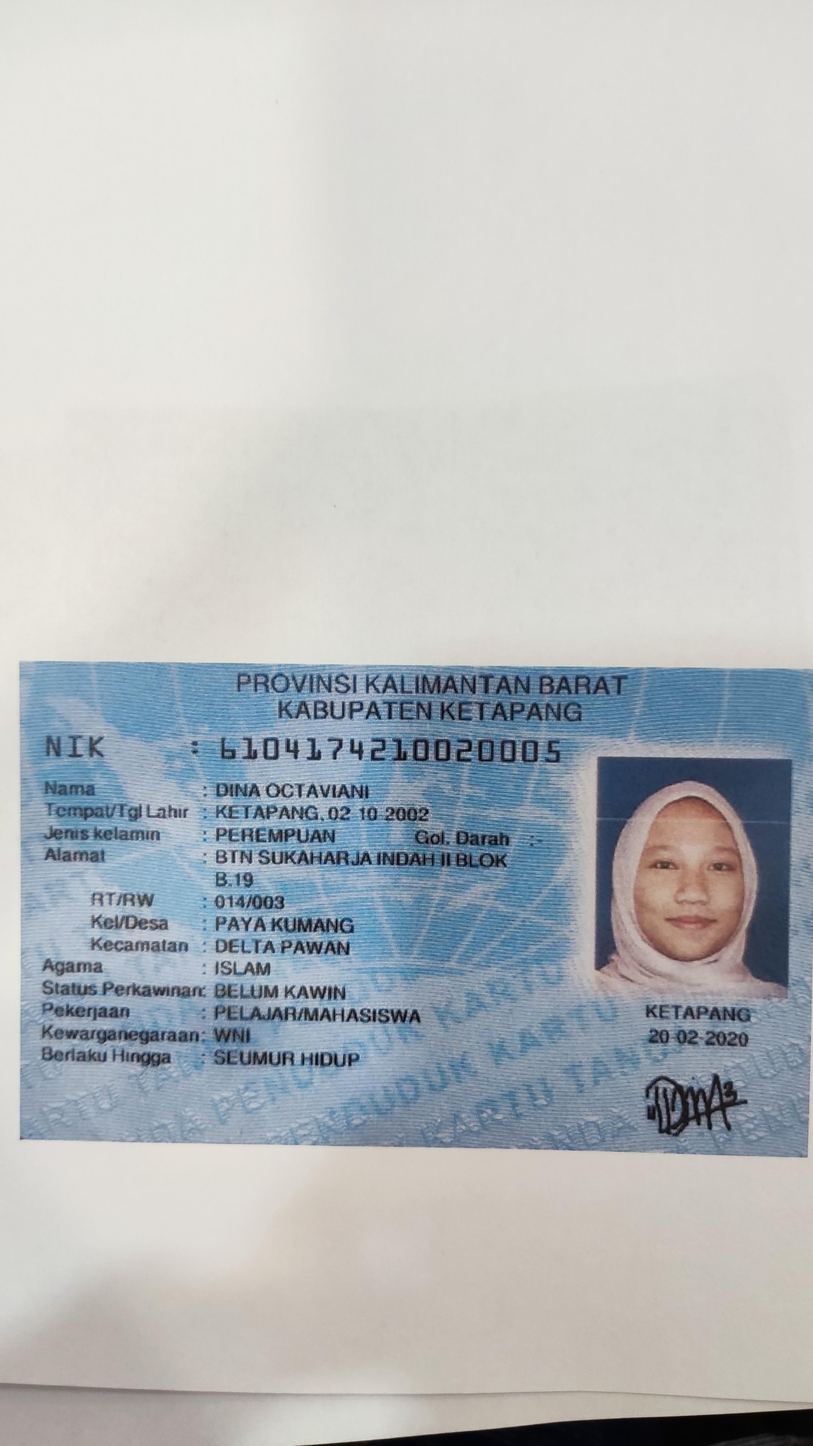ID-card: (25, 666, 804, 1160)
